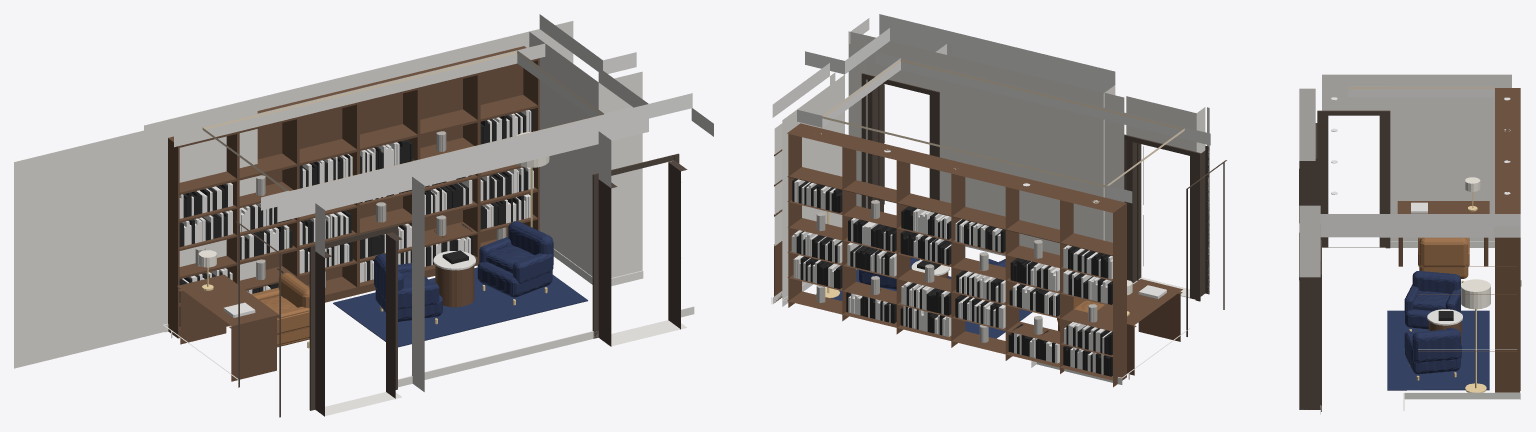
The model's file is ALPHA.glb.
3 views of the same model, side by side, from view 1: azimuth 30°, elevation 25°; view 2: azimuth 150°, elevation 25°; view 3: azimuth 270°, elevation 25° (orthographic). The views are drawn at different scales.
Parts seen in each view (by area): view 1: WEB_ALPHA; view 2: WEB_ALPHA; view 3: WEB_ALPHA.
Boxes of the visible parts, bbox=[...] form: WEB_ALPHA: bbox=[14, 14, 713, 417]; WEB_ALPHA: bbox=[771, 14, 1226, 387]; WEB_ALPHA: bbox=[1299, 74, 1521, 414].
Bounding box in the file's own units: 8.02 × 3 × 3.47.
